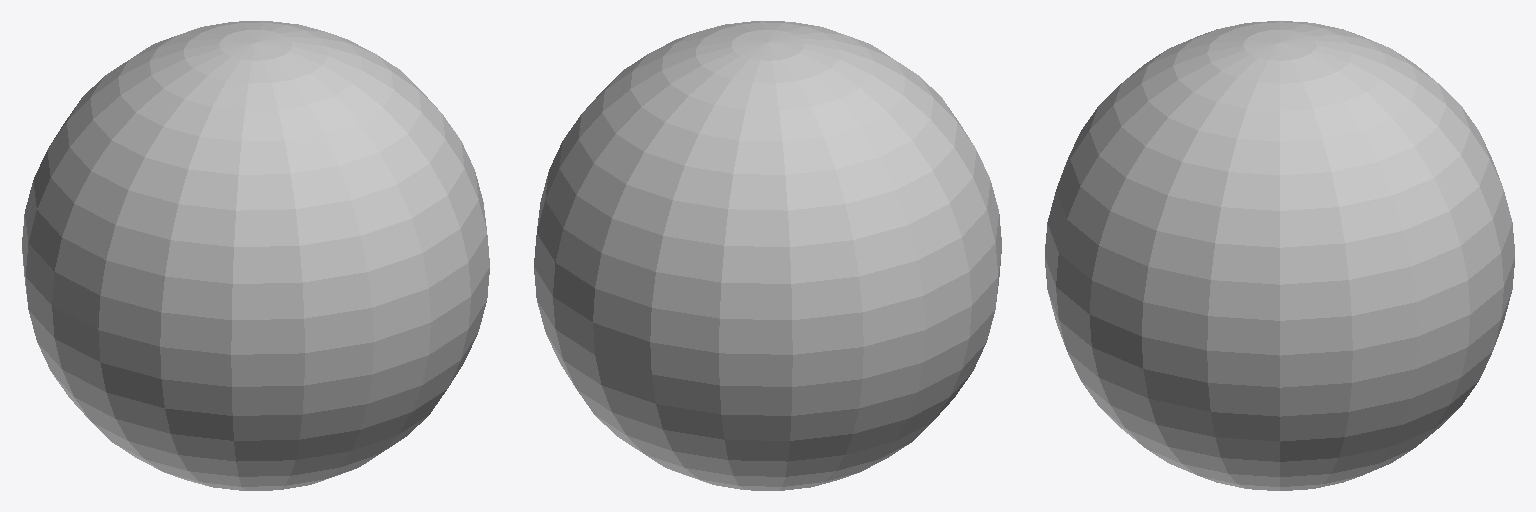
Rendered from rshoulder.obj.
3 views of the same model, side by side, from view 1: azimuth 30°, elevation 25°; view 2: azimuth 150°, elevation 25°; view 3: azimuth 270°, elevation 25° (orthographic).
Parts seen in each view (by area): view 1: pSphere5 group1; view 2: pSphere5 group1; view 3: pSphere5 group1.
Boxes of the visible parts, x1,y1,x2,y2 form: pSphere5 group1: [22, 21, 489, 490]; pSphere5 group1: [534, 21, 1001, 490]; pSphere5 group1: [1045, 21, 1514, 490].
Bounding box in the file's own units: 0.5692 × 0.5692 × 0.5692.